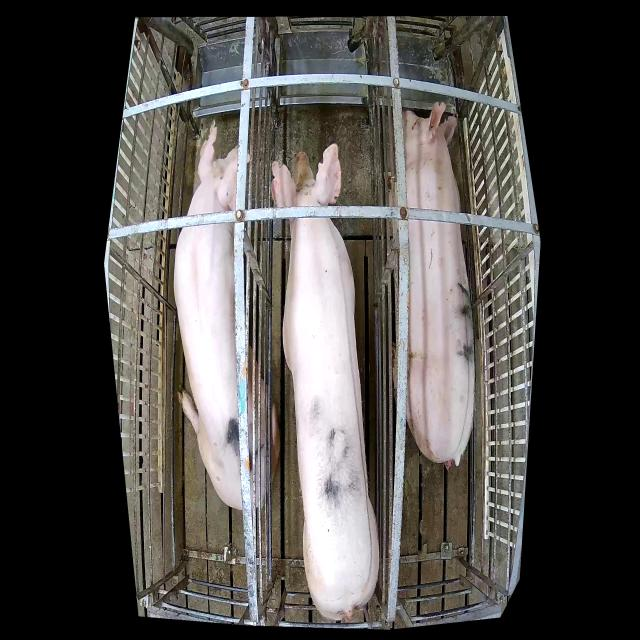pig: (270, 143, 379, 622), (174, 119, 279, 512), (402, 101, 475, 468)
